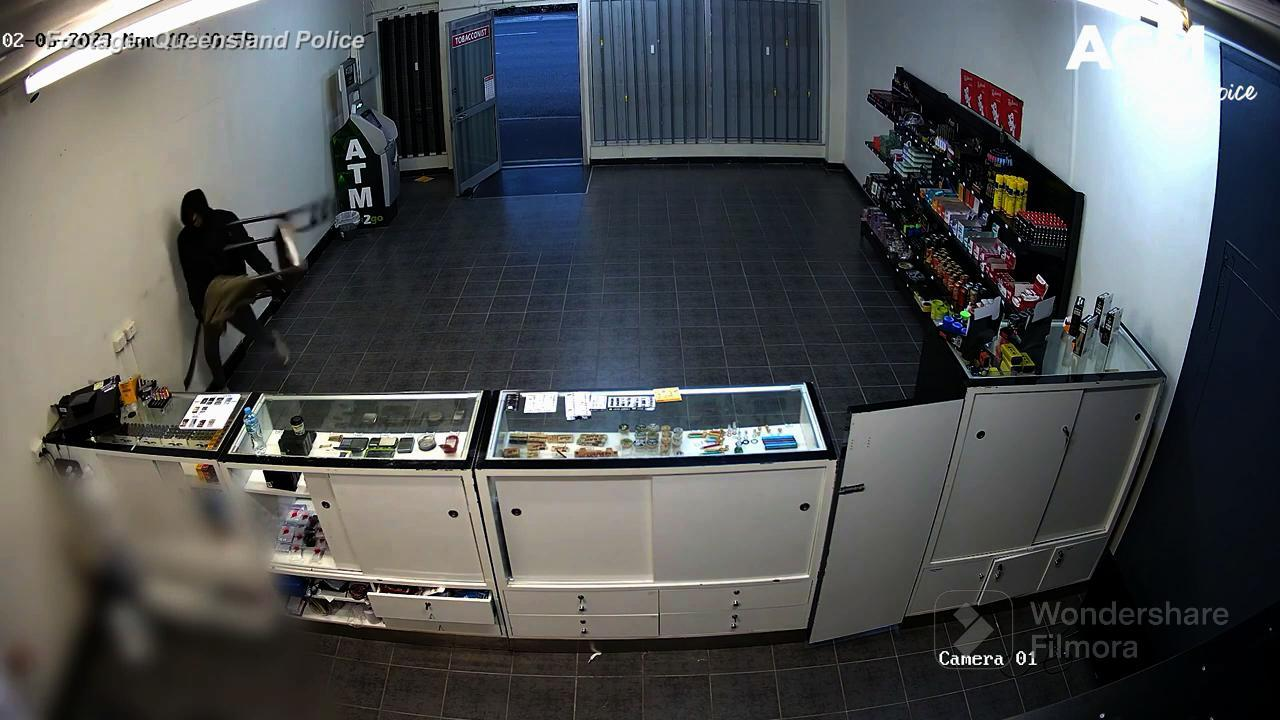melee: (177, 312, 216, 386)
